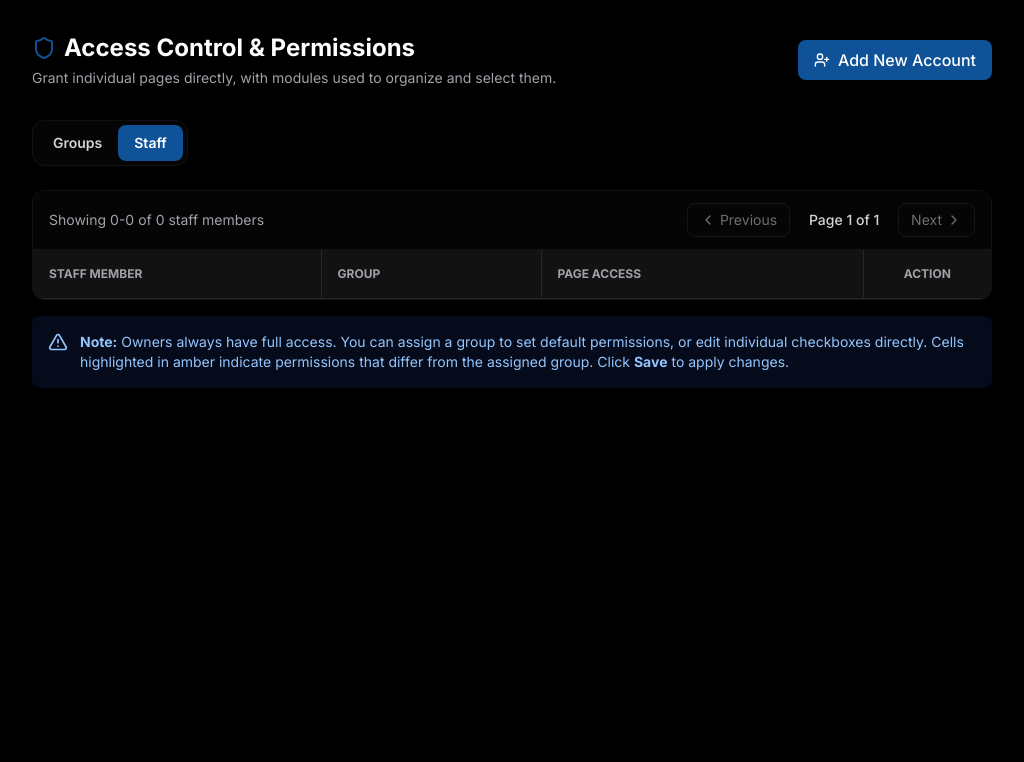
Test case: AccessControlSettings - create staff account › creates a staff account and refreshes profiles on success
Click the button "Add New Account": (895, 60) [798,40,992,80]
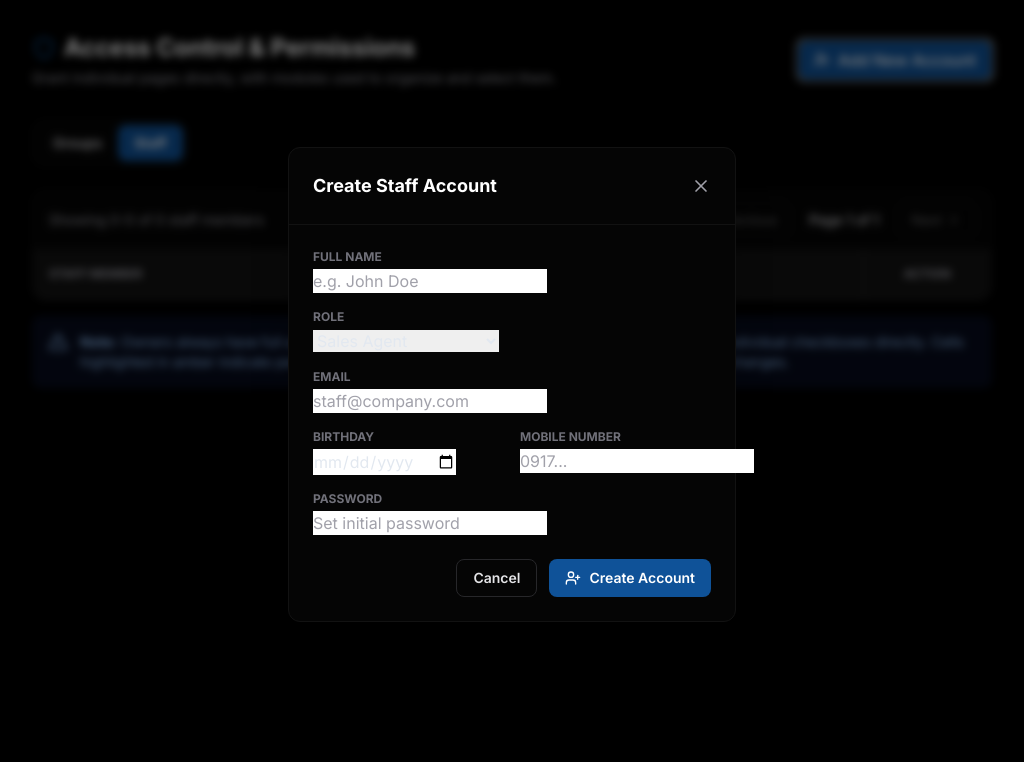
In the field with placeholder "e.g. John Doe": (430, 280) [313,268,547,292], type "Jane Doe"
Select "Sales Agent" in the dropdown: (406, 340) [313,330,499,352]
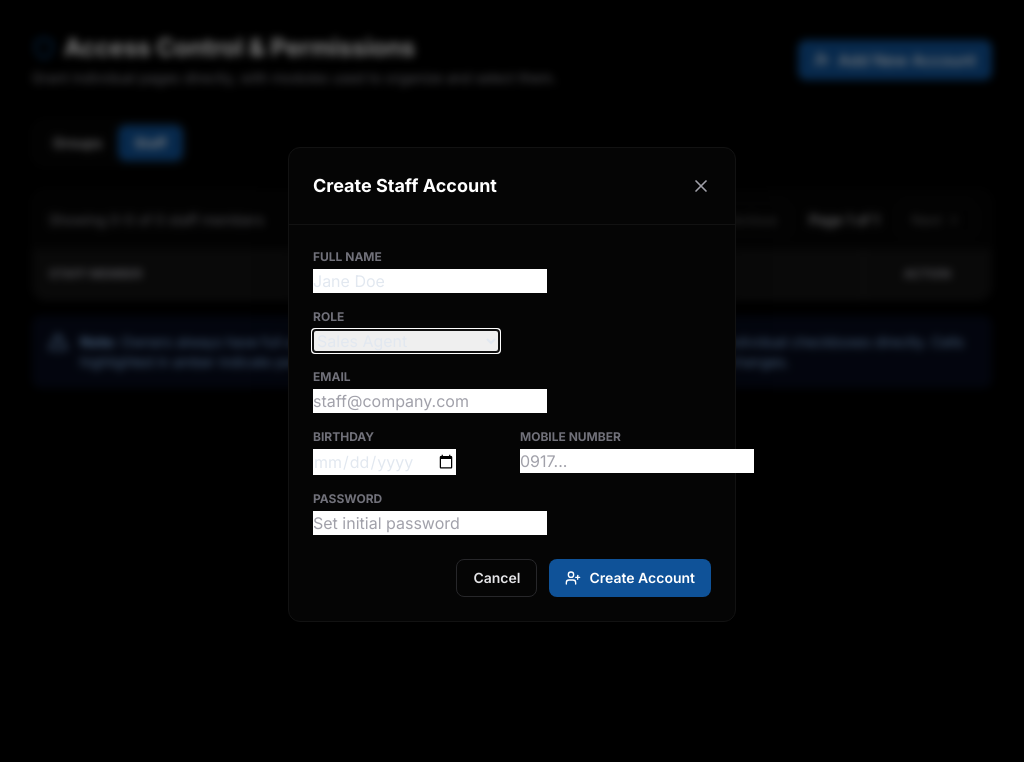
In the field with placeholder "staff@company.com": (430, 400) [313,388,547,412], type "jane@example.com"
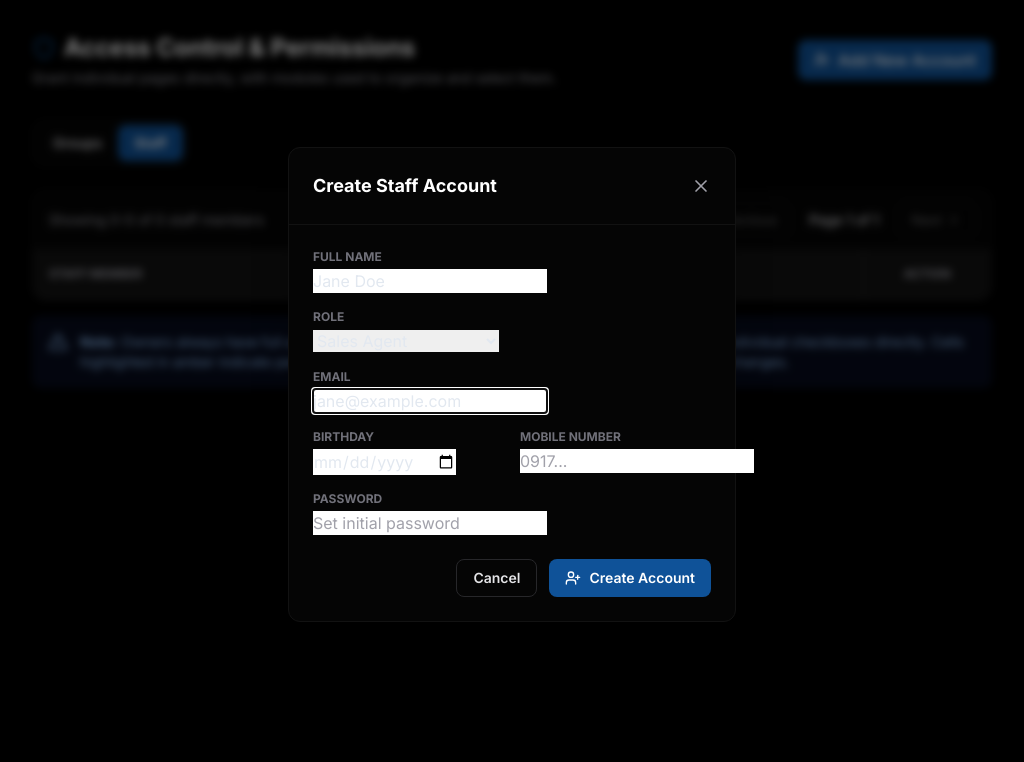
In the field with placeholder "0917...": (637, 460) [520,448,754,472], type "09171234567"
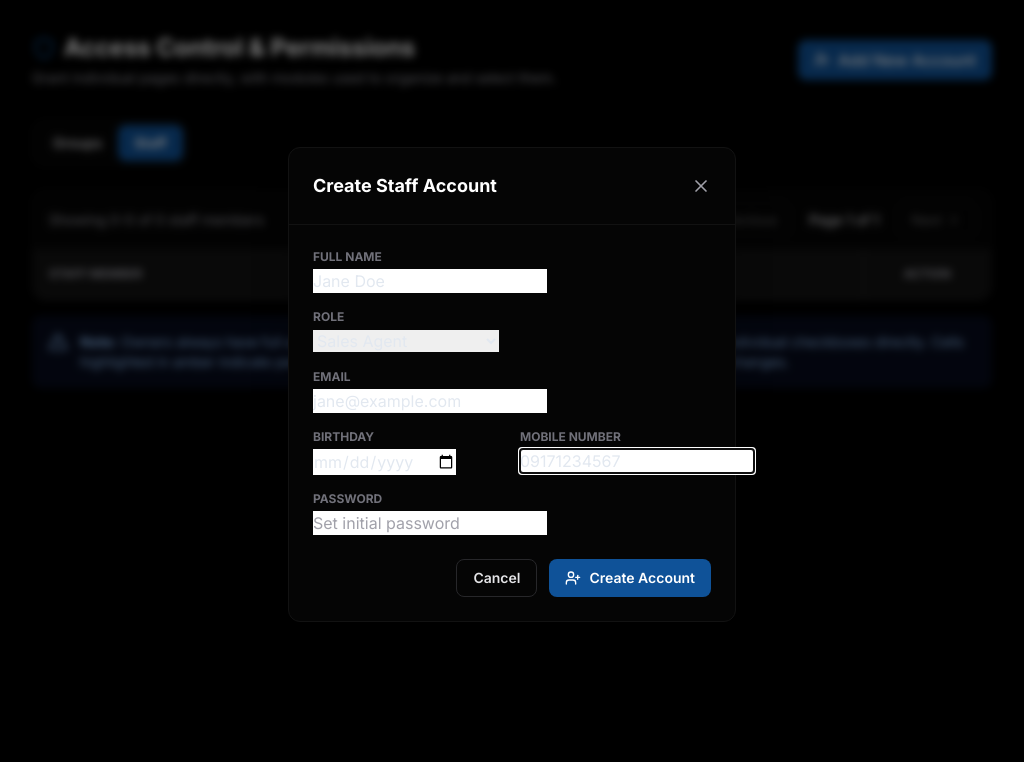
In the password field with placeholder "Set initial password": (430, 522) [313,510,547,534], type "StrongPass1"
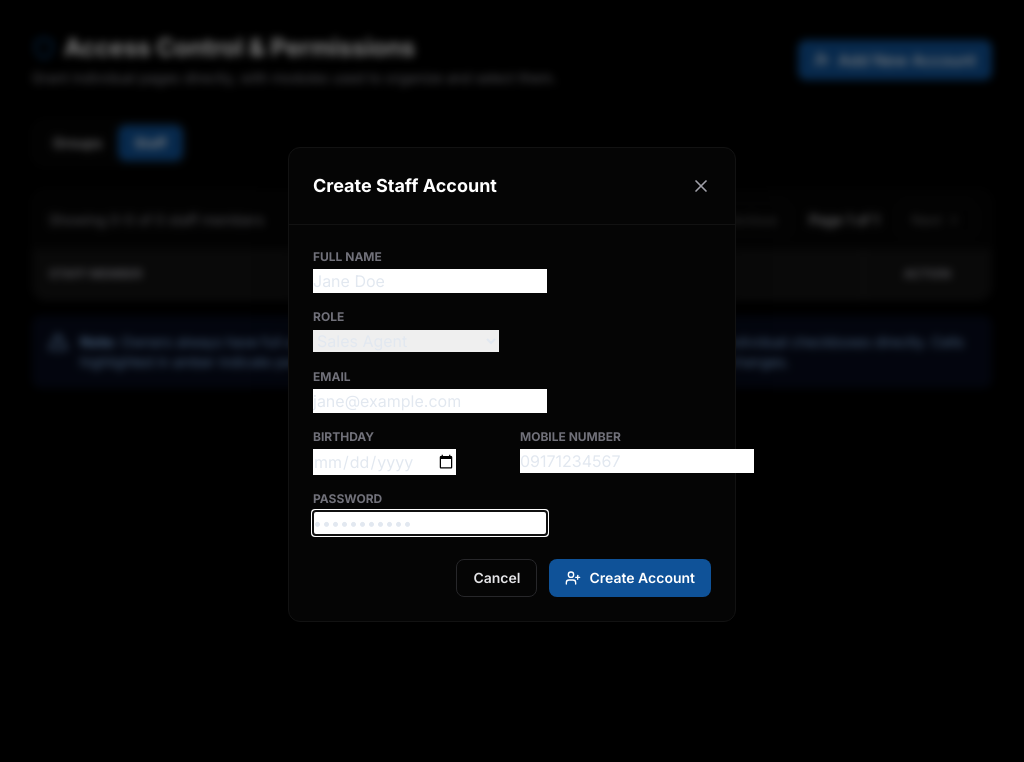
Click the button "Create Account": (630, 578) [550,558,711,596]
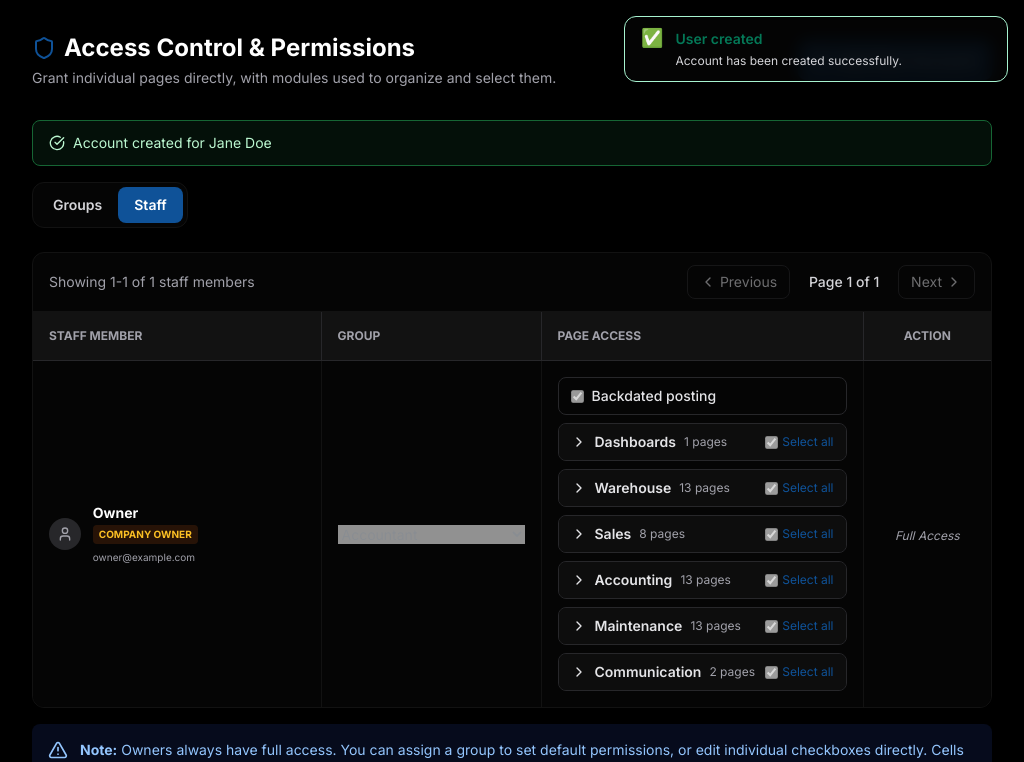
Now the heading "Create Staff Account" is gone
Now the text "Account created for Jane Doe" is shown, box [73,133,272,153]
